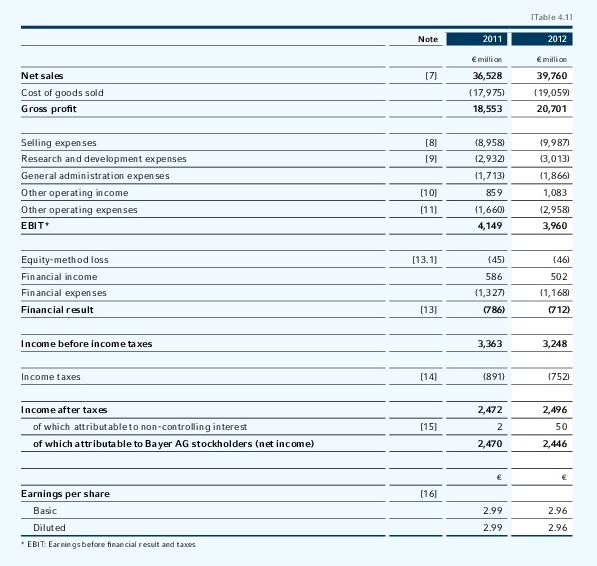table: (0, 0, 597, 566)
